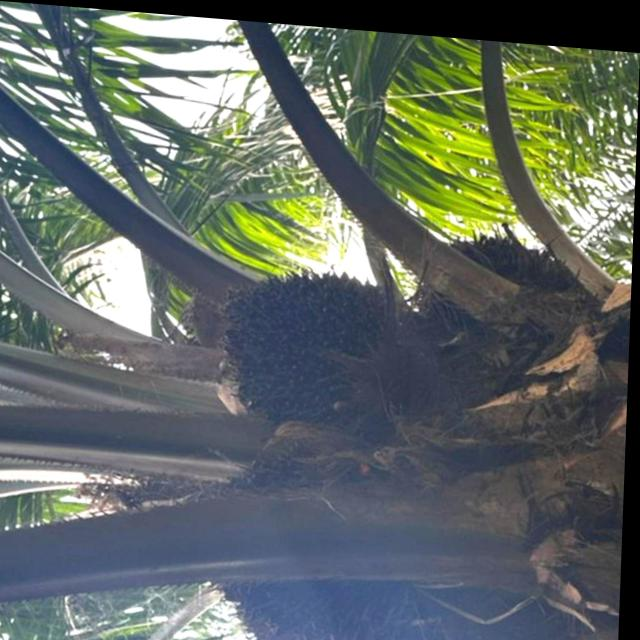unripe: (215, 251, 421, 441), (420, 217, 574, 362)
